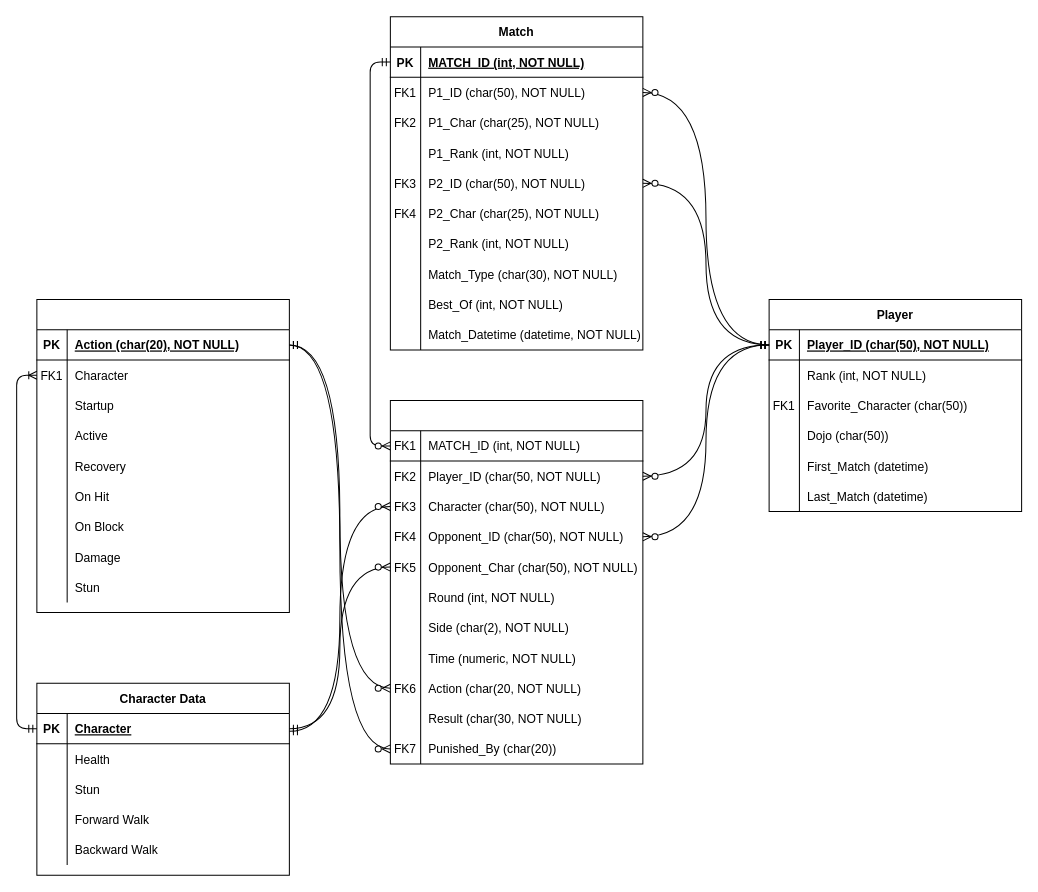
Image size: 1038x892. Some labels were removed from this diagram. The box of each missing label's shape, as (x1, y1, x2, y2) in pixels:
"Match Action": (389, 399, 643, 764)
Frame Data: (36, 298, 289, 613)
